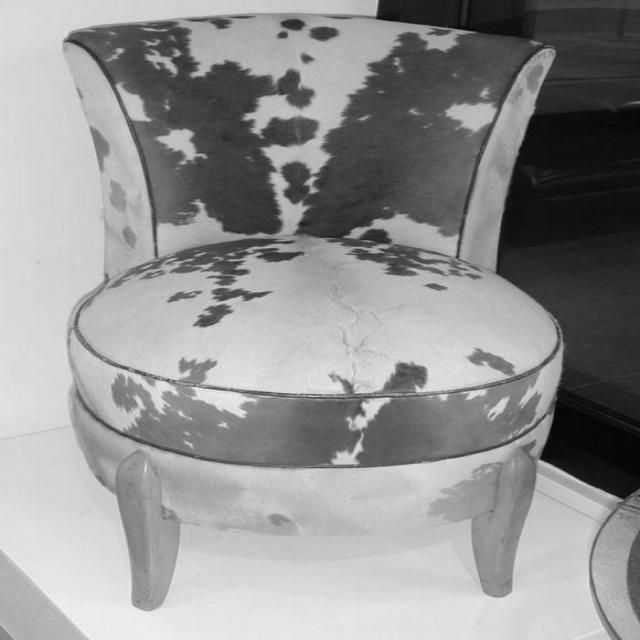chair: (58, 13, 588, 614)
